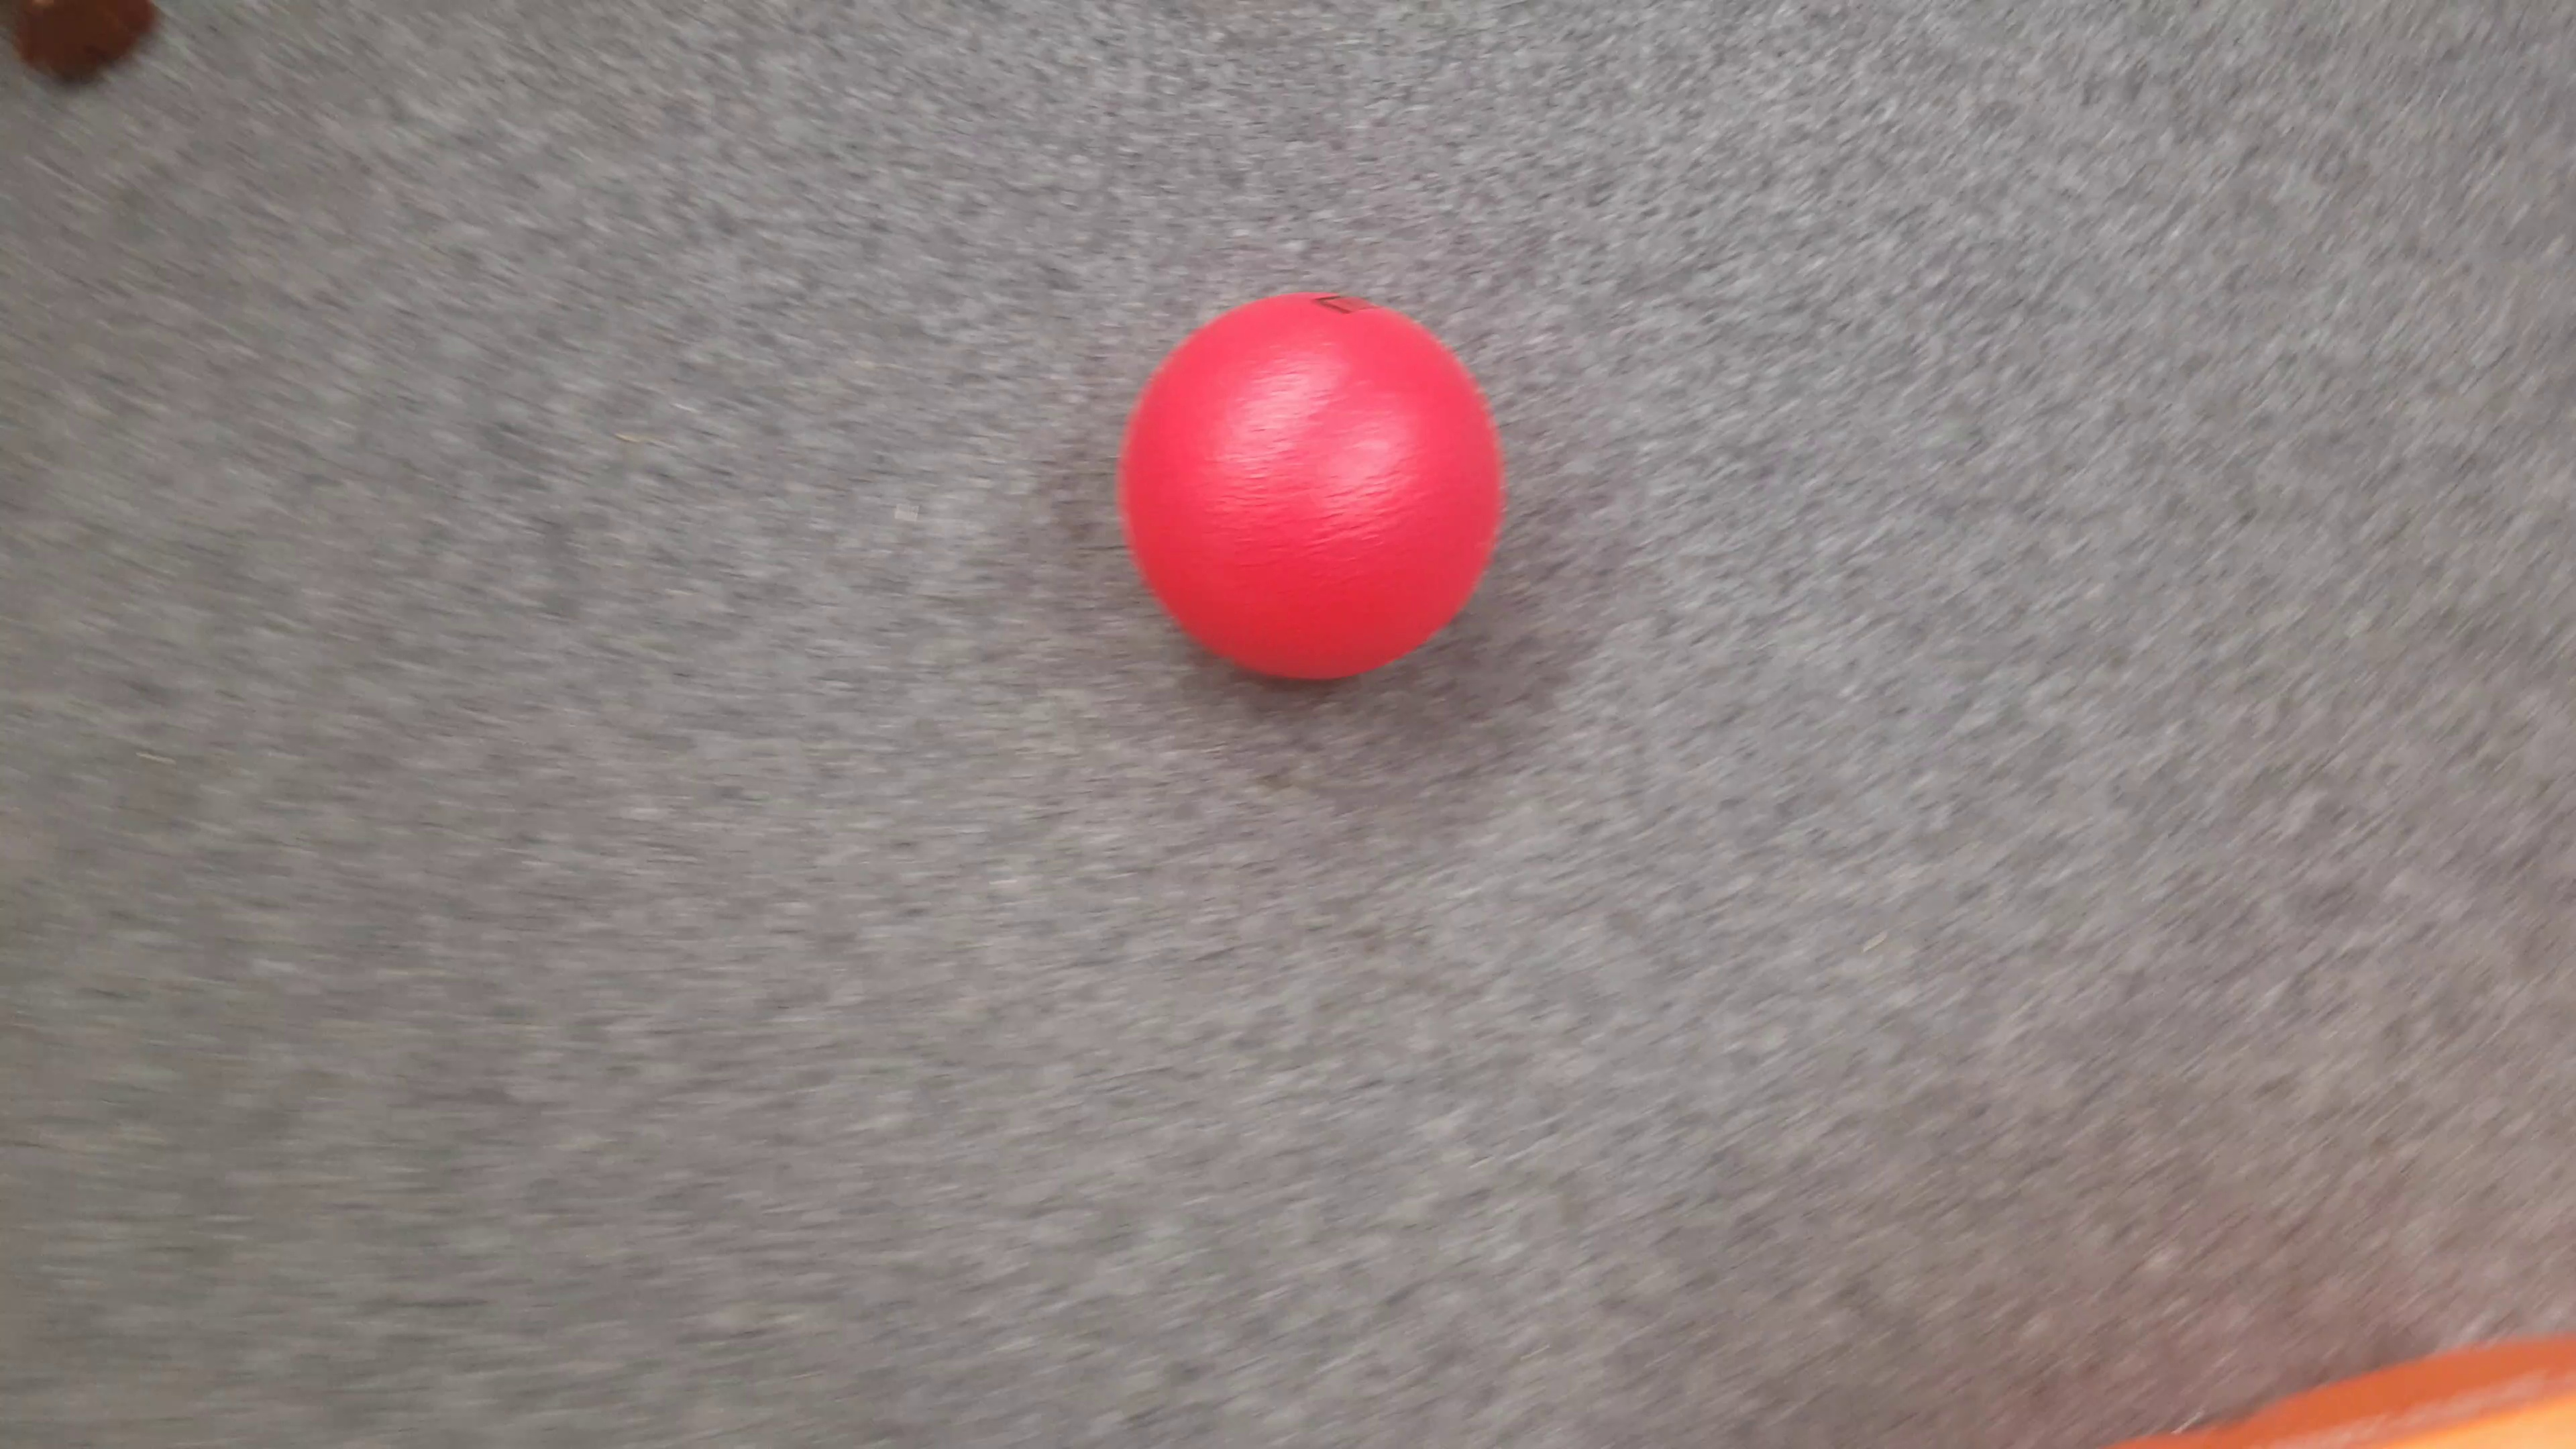kick: (1118, 287, 1507, 686)
